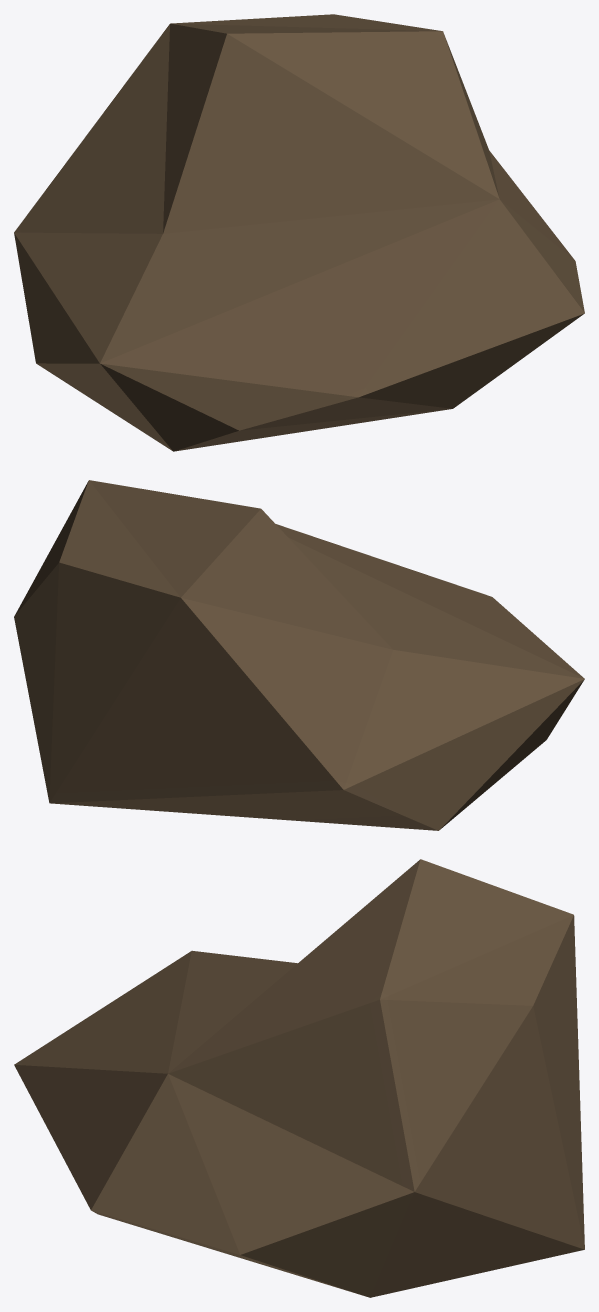
File: Boulder-C04.fbx
3 views of the same model, one above another, from view 1: azimuth 30°, elevation 25°; view 2: azimuth 150°, elevation 25°; view 3: azimuth 270°, elevation 25° (orthographic). The views are drawn at different scales.
Visible parts, largest first — view 1: Boulder-C04; view 2: Boulder-C04; view 3: Boulder-C04.
Part boxes in pixels (x1,y1,x2,y2): Boulder-C04: (14,14,584,451); Boulder-C04: (14,480,584,830); Boulder-C04: (14,859,584,1297).
Size of the model in its own units: 160 by 87.96 by 145.
